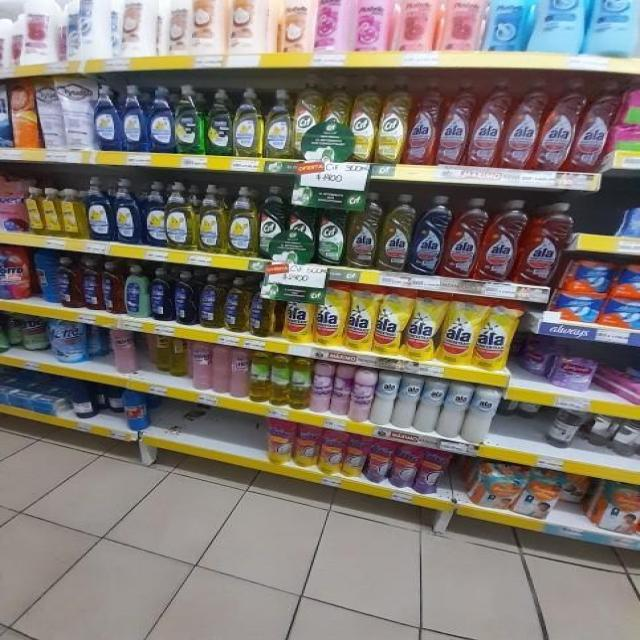ala_conc_amarillo: (347, 190, 378, 269), (380, 193, 410, 272)
ala_conc_azul: (412, 194, 444, 276)
ala_conc_rojo: (520, 201, 567, 286), (481, 198, 518, 282), (446, 197, 480, 279), (576, 98, 612, 172), (541, 99, 575, 171), (472, 95, 504, 168), (506, 98, 538, 170), (409, 88, 438, 166), (439, 94, 470, 166)
ala_crem_blanco: (468, 387, 500, 443), (442, 382, 468, 438), (396, 374, 419, 430), (419, 378, 442, 433), (374, 372, 396, 426)
ala_sachet_amarillo: (476, 303, 516, 371), (441, 299, 475, 367), (406, 294, 438, 361), (375, 289, 404, 357), (346, 286, 374, 352), (315, 284, 344, 347), (283, 283, 313, 343)
cif_conc_bot_amarilla: (378, 76, 408, 165), (321, 75, 349, 163), (350, 76, 377, 163), (294, 74, 321, 160)
cif_conc_botella_verde: (317, 188, 346, 267), (287, 186, 316, 264), (259, 184, 286, 260)
magistral_con_amarillo: (264, 88, 294, 159), (228, 185, 257, 257), (234, 87, 263, 157), (167, 181, 196, 251), (198, 183, 226, 254)
magistral_con_azul: (147, 85, 174, 153), (114, 177, 140, 245), (94, 84, 119, 151), (87, 175, 112, 242), (122, 84, 146, 152), (142, 180, 165, 248)
magistral_con_verde: (174, 84, 205, 155)
zorro: (224, 276, 250, 333), (198, 273, 223, 329)
